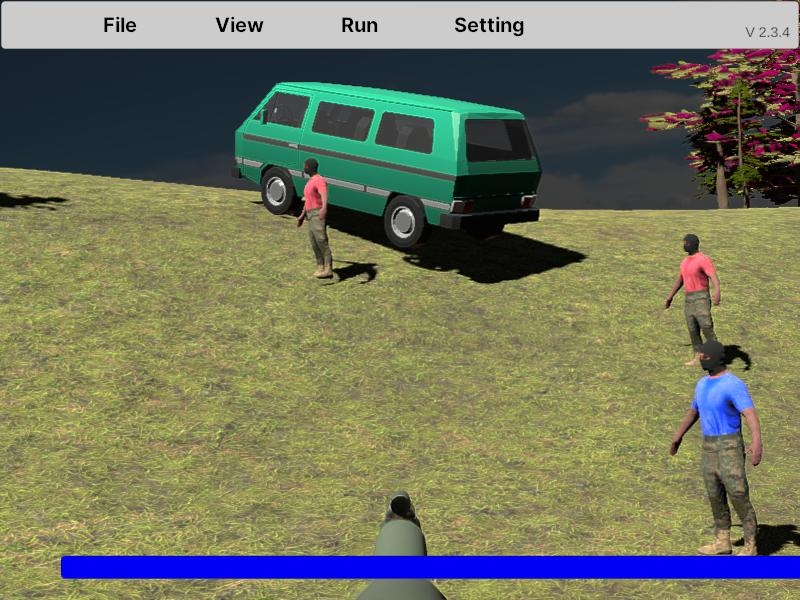Human: (670, 338, 762, 558), (664, 234, 721, 370), (298, 156, 332, 281)
car: (230, 84, 543, 252)
